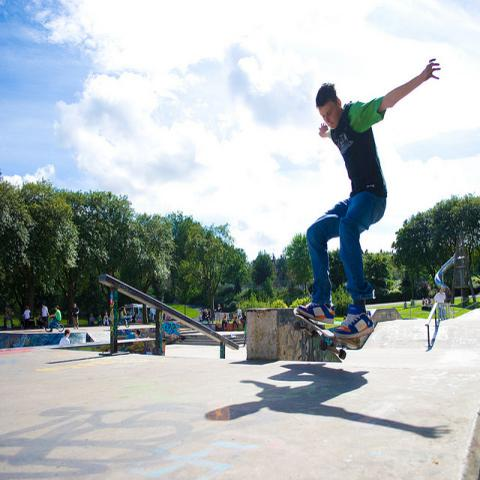truck: (118, 303, 156, 325)
